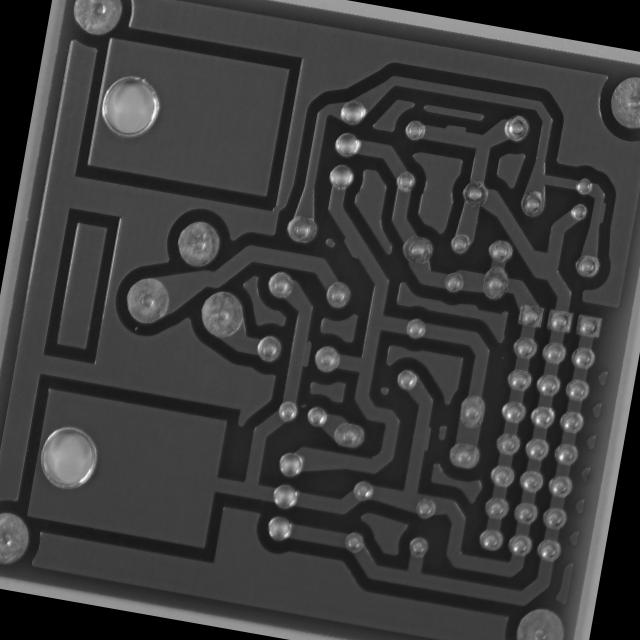spur: (334, 231, 368, 264), (291, 332, 316, 372), (411, 418, 436, 458), (438, 116, 471, 142), (587, 196, 611, 230)
